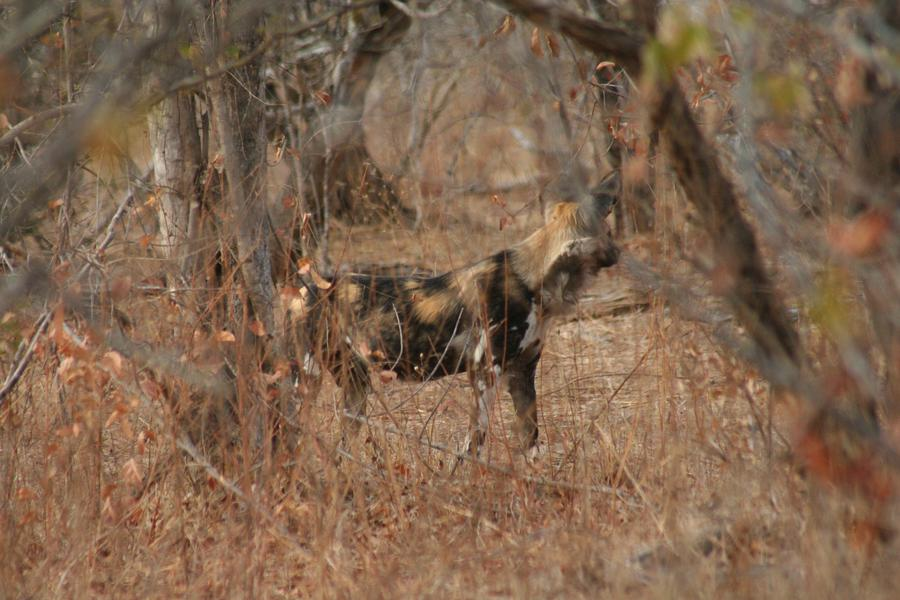wilddog: (295, 211, 607, 431)
